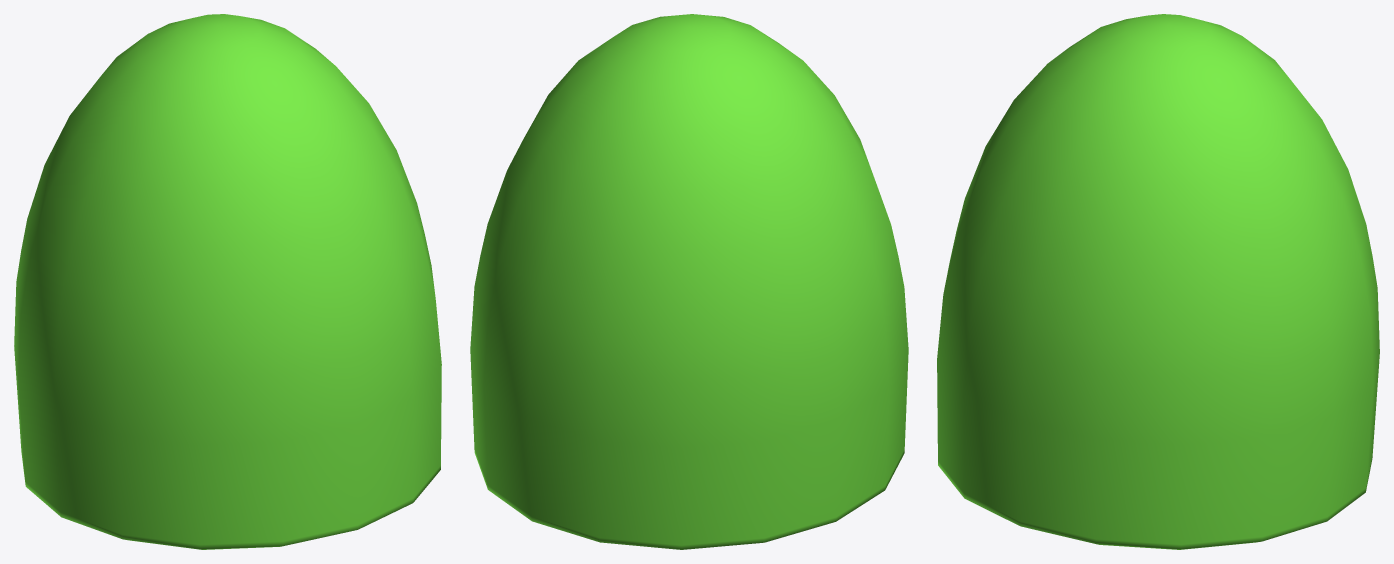
File: sm_feuille3.fbx
The picture shows the model from 3 angles, left to right: view 1: azimuth 30°, elevation 25°; view 2: azimuth 150°, elevation 25°; view 3: azimuth 270°, elevation 25°; orthographic projection.
Visible parts, largest first — view 1: bouquetFeuilles3; view 2: bouquetFeuilles3; view 3: bouquetFeuilles3.
Boxes of the visible parts, x1,y1,x2,y2 form: bouquetFeuilles3: [14, 14, 441, 549]; bouquetFeuilles3: [470, 14, 908, 549]; bouquetFeuilles3: [937, 14, 1379, 549].
Size of the model in its own units: 444 by 520 by 455.
